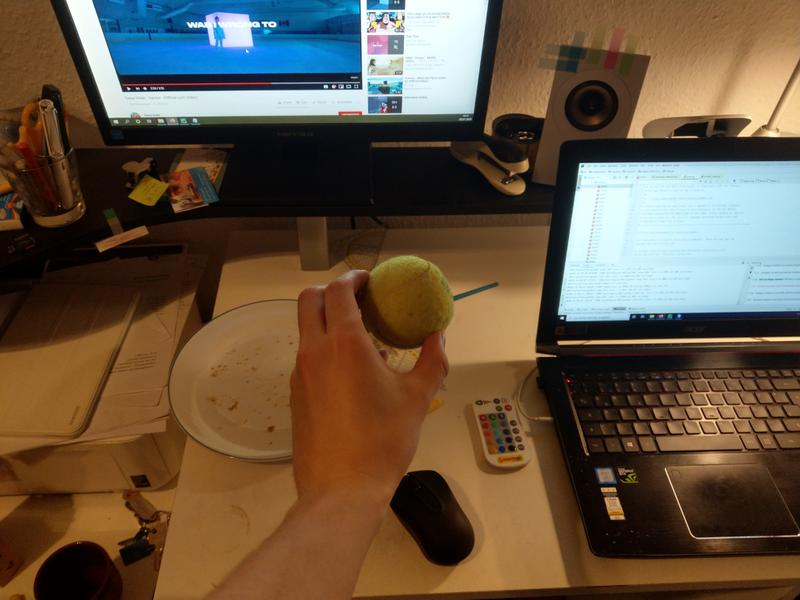Tennisball: (358, 254, 455, 350)
